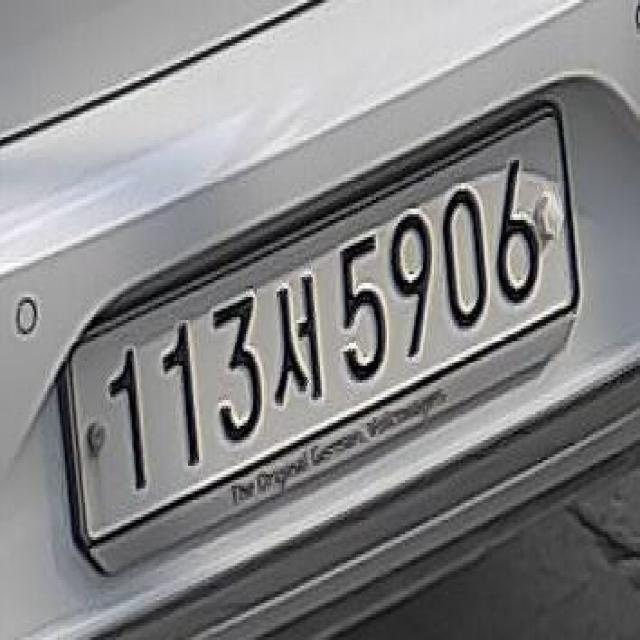illegal_plate: (58, 106, 585, 566)
